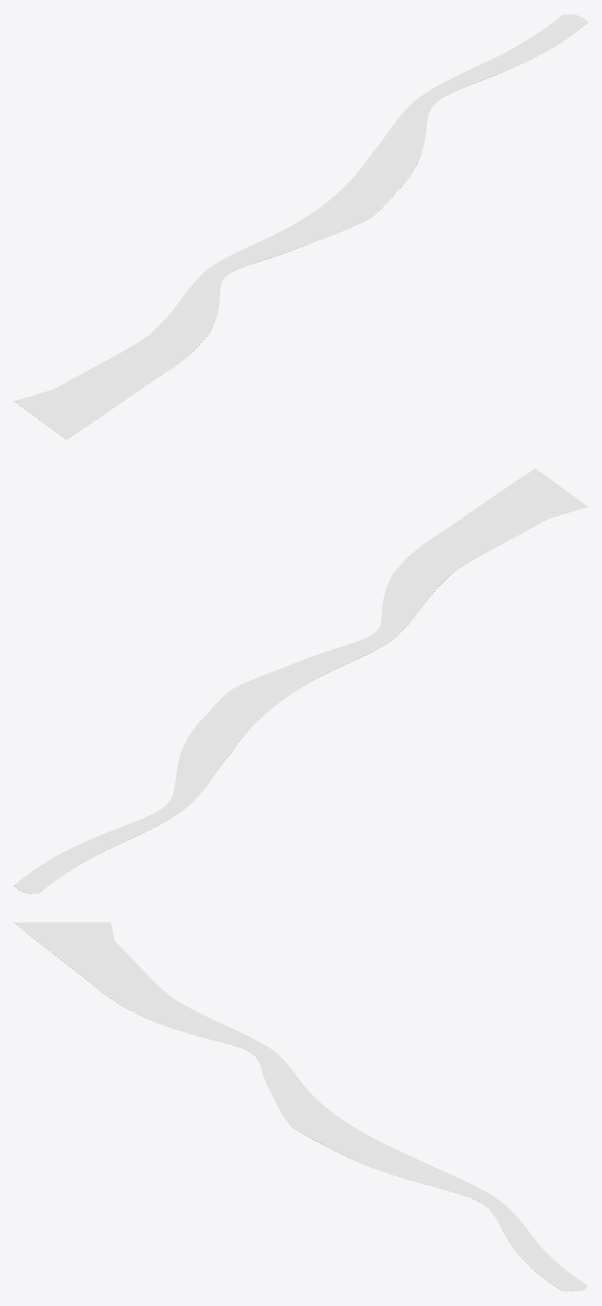
Rendered from Level 109.fbx.
The picture shows the model from 3 angles, top to bottom: view 1: azimuth 30°, elevation 25°; view 2: azimuth 210°, elevation 25°; view 3: azimuth 270°, elevation 25°; orthographic projection. The views are drawn at different scales.
Parts seen in each view (by area): view 1: tongue; view 2: tongue; view 3: tongue.
Part boxes in pixels (x1,y1,x2,y2): tongue: (14, 14, 587, 439); tongue: (14, 468, 587, 893); tongue: (14, 922, 587, 1291).
Size of what is drawn, in the model's own units: 373 by 0.0585 by 245.
